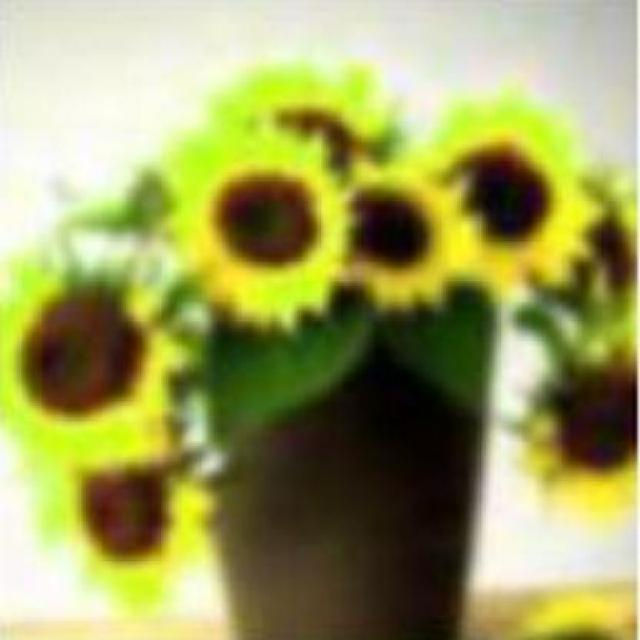sunflower: (171, 131, 343, 331)
